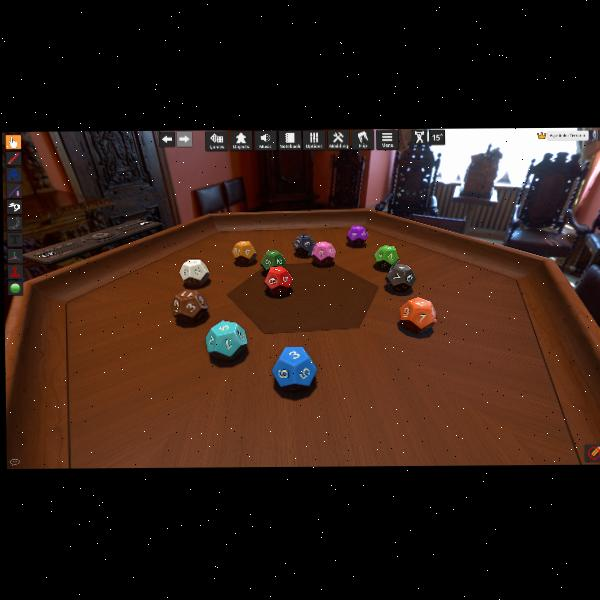d12: (272, 345, 317, 389), (205, 320, 243, 357), (172, 290, 209, 323), (403, 296, 436, 332), (264, 265, 294, 295), (180, 257, 210, 286), (385, 263, 413, 293), (261, 249, 287, 273), (374, 244, 398, 269), (311, 241, 335, 265), (232, 240, 255, 264), (293, 233, 314, 255), (346, 225, 367, 246)
